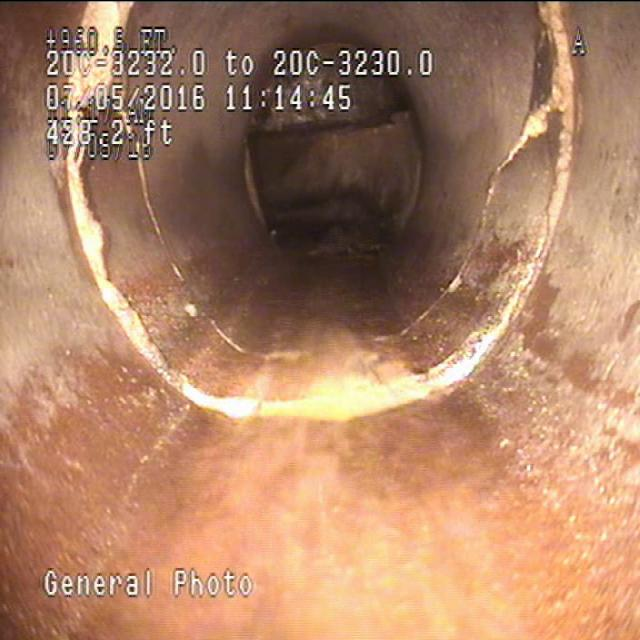Crack: (447, 106, 521, 314)
